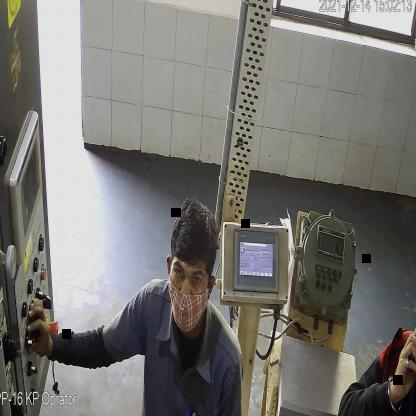no_goggles: (172, 260, 208, 294)
